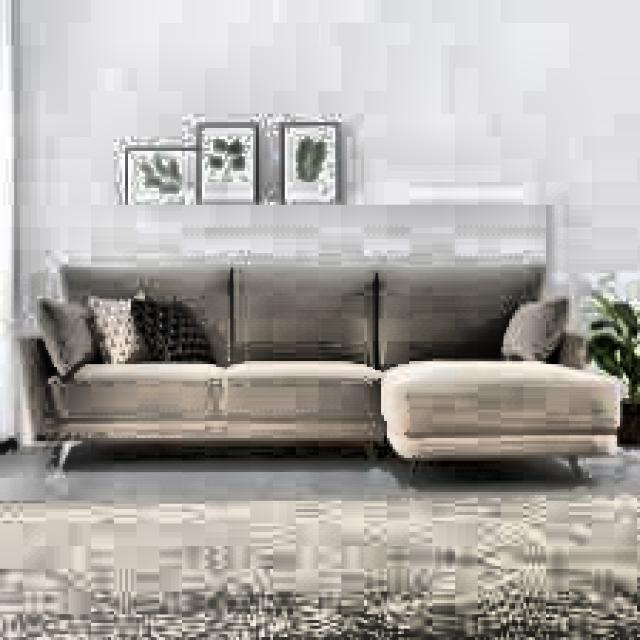sofa: (28, 265, 623, 472)
